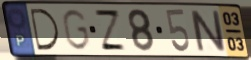5: (164, 8, 191, 54)
8: (127, 7, 156, 53)
D: (27, 7, 62, 52)
G: (60, 8, 92, 52)
N: (187, 8, 229, 53)
Z: (92, 8, 129, 52)
